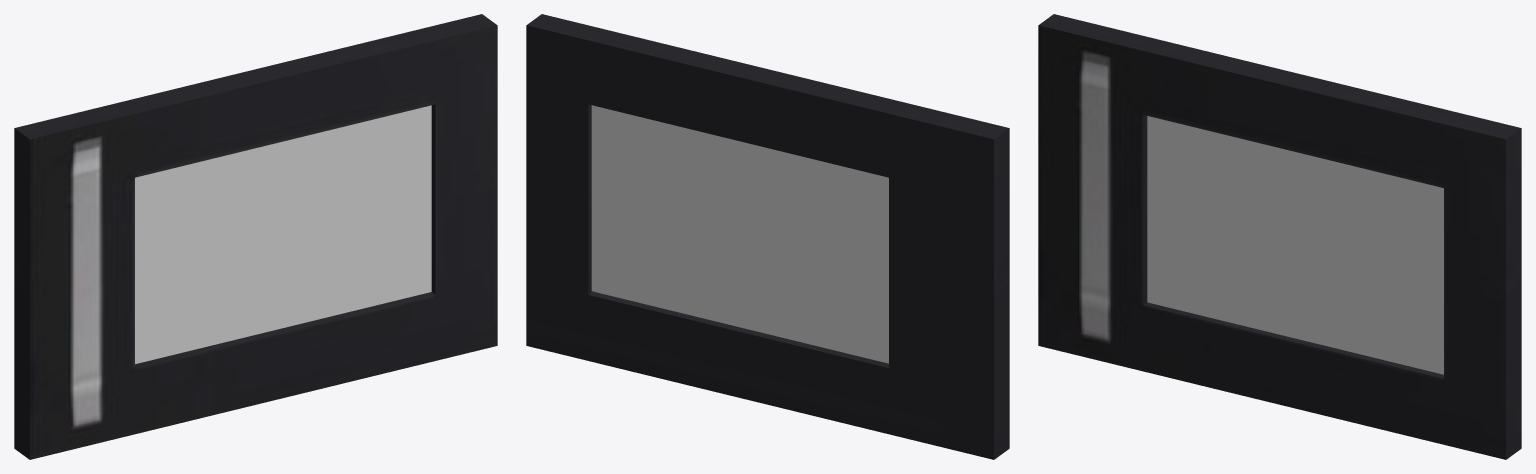
File: Microwave_door.glb
3 views of the same model, side by side, from view 1: azimuth 30°, elevation 25°; view 2: azimuth 150°, elevation 25°; view 3: azimuth 330°, elevation 25° (orthographic).
Parts seen in each view (by area): view 1: Microwave_door; view 2: Microwave_door; view 3: Microwave_door.
Part boxes in pixels (x1=…): Microwave_door: x1=14, y1=14, x2=497, y2=459; Microwave_door: x1=526, y1=14, x2=1009, y2=459; Microwave_door: x1=1038, y1=14, x2=1521, y2=459.
Bounding box in the file's own units: 0.5447 × 0.3568 × 0.0311.
Materials: 2 (1 with a texture image).
